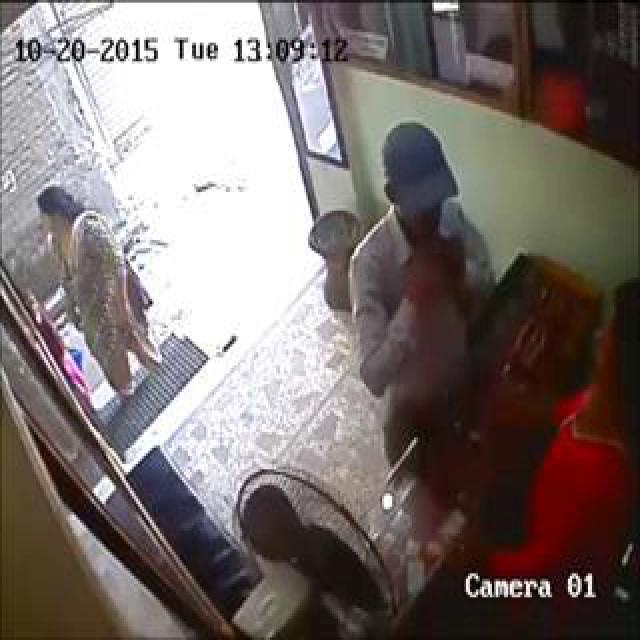shoplifting: (45, 44, 579, 516)
